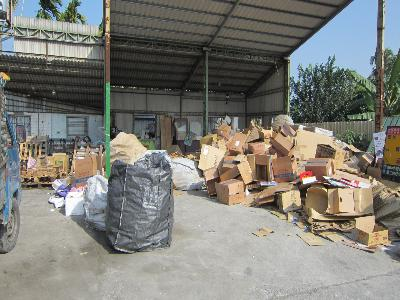box: (217, 178, 247, 205), (327, 186, 354, 216), (272, 155, 299, 182), (276, 186, 303, 212), (306, 156, 333, 180), (269, 129, 294, 153), (248, 138, 267, 154)
plastic_bag: (105, 152, 175, 254)
styrofoam: (65, 190, 86, 218)
